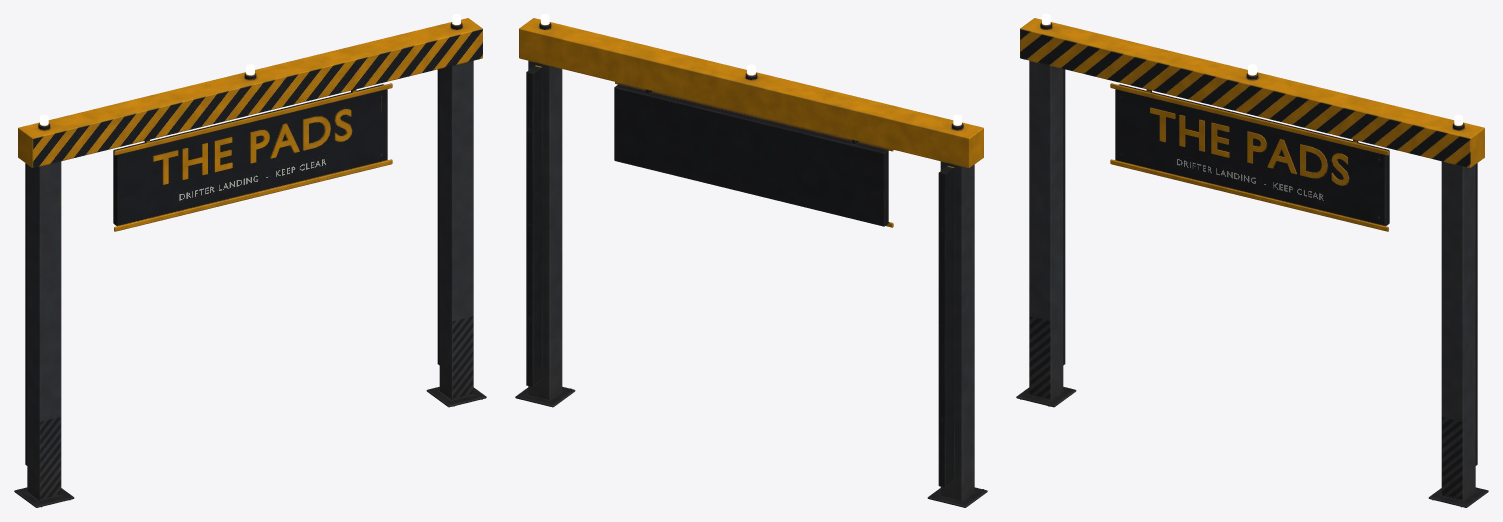
File: sign_the_pads.glb
The picture shows the model from 3 angles, left to right: view 1: azimuth 30°, elevation 25°; view 2: azimuth 150°, elevation 25°; view 3: azimuth 330°, elevation 25°; orthographic projection.
Visible parts, largest first — view 1: sign_the_pads; view 2: sign_the_pads; view 3: sign_the_pads.
Part boxes in pixels (bbox=[...]): sign_the_pads: bbox=[14, 14, 486, 507]; sign_the_pads: bbox=[515, 14, 987, 507]; sign_the_pads: bbox=[1016, 14, 1488, 507].
Bounding box in the file's own units: 7 × 5.63 × 0.7352.
Materials: 2 (2 with a texture image).
